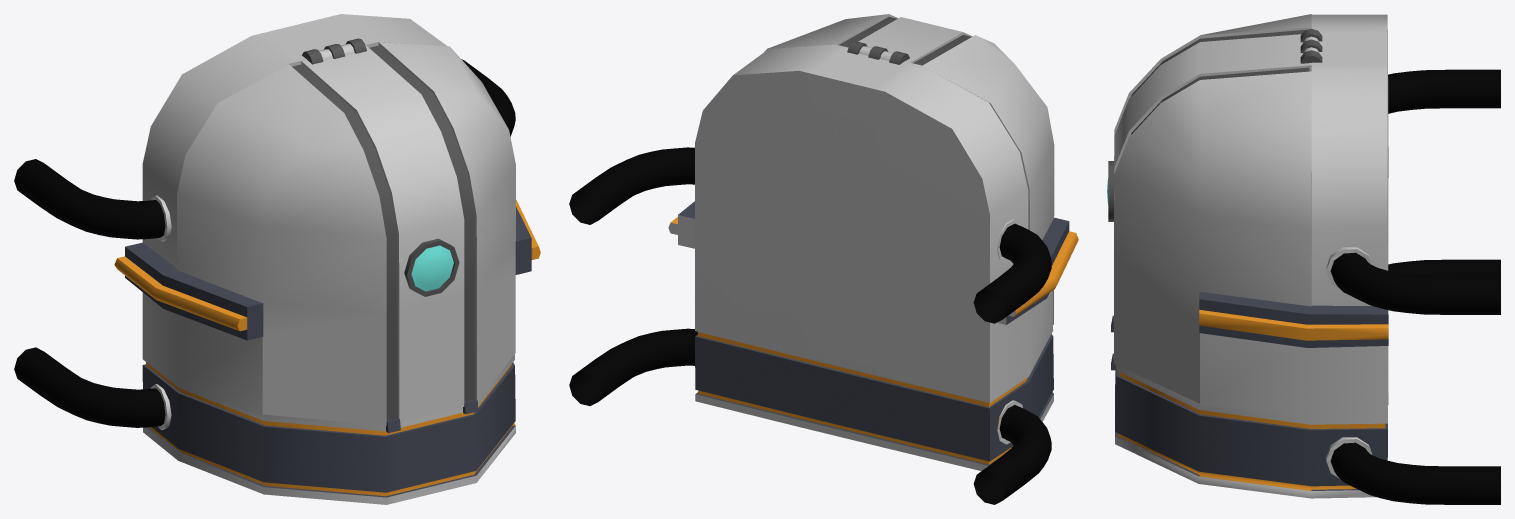
Rendered from MINIONSPAWN.FBX.
3 renders of one model, left to right at view 1: azimuth 30°, elevation 25°; view 2: azimuth 150°, elevation 25°; view 3: azimuth 270°, elevation 25°, orthographic. The views are drawn at different scales.
Visible parts, largest first — view 1: LID001, BASE; view 2: BASE, LID001; view 3: BASE, LID001.
Boxes of the visible parts, x1,y1,x2,y2 form: LID001: (177,38,515,425); BASE: (14,14,540,504); BASE: (569,44,1078,504); LID001: (764,14,1054,324); BASE: (1111,14,1500,504); LID001: (1107,14,1322,403).
Size of the model in its own units: 265 by 211 by 198.
Materials: 1 (1 with a texture image).
